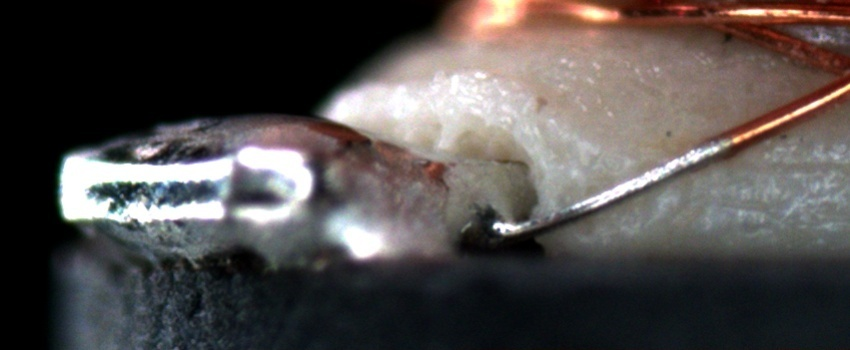CL: (809, 39, 849, 105)
DL: (727, 134, 849, 191)
TS: (492, 135, 734, 237)
